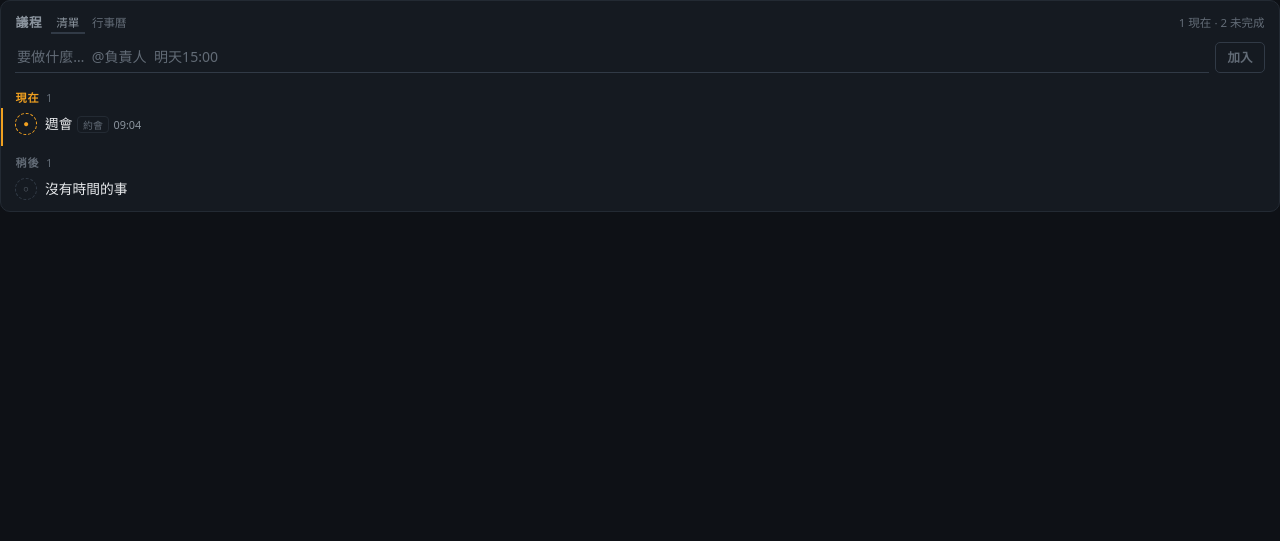
it: AgendaPanel › switches to a time grid of the same items
The image size is (1280, 541).
What coordinates should you click on to do the following:
click the button "行事曆"
I would click on:
 (109, 23)
Its box is top-left (86, 13), bottom-right (132, 34).
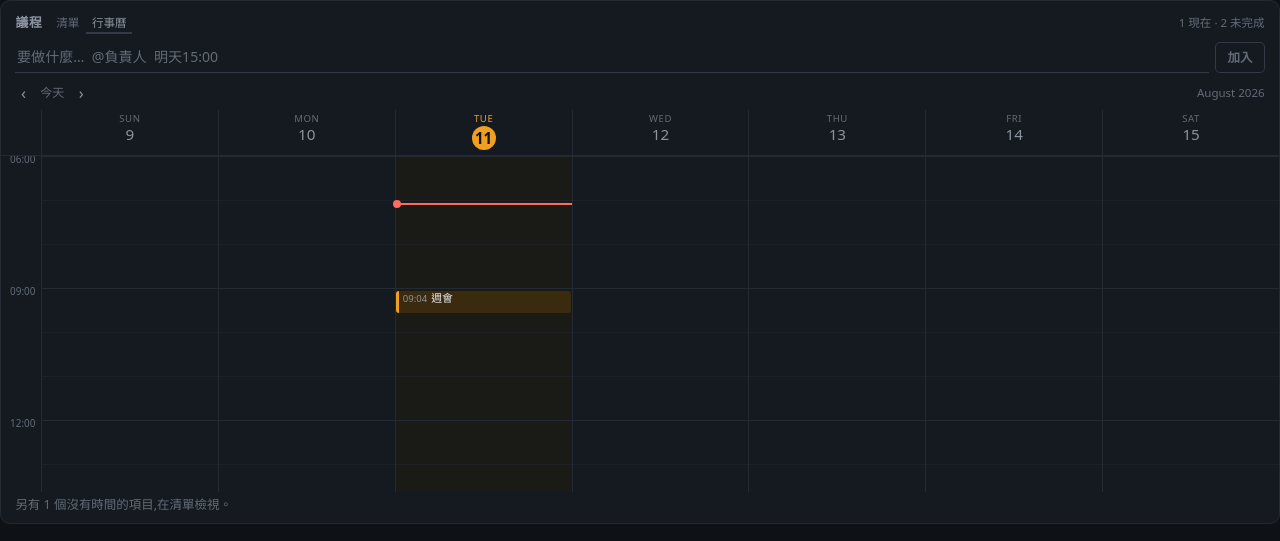
Expected: the button with class "slot" is shown, top-left (396, 291), bottom-right (572, 313)
Expected: the text "另有 1 個沒有時間的項目,在清單檢視。" is shown, top-left (15, 496), bottom-right (232, 513)
Expected: the text "沒有時間的事" is gone
